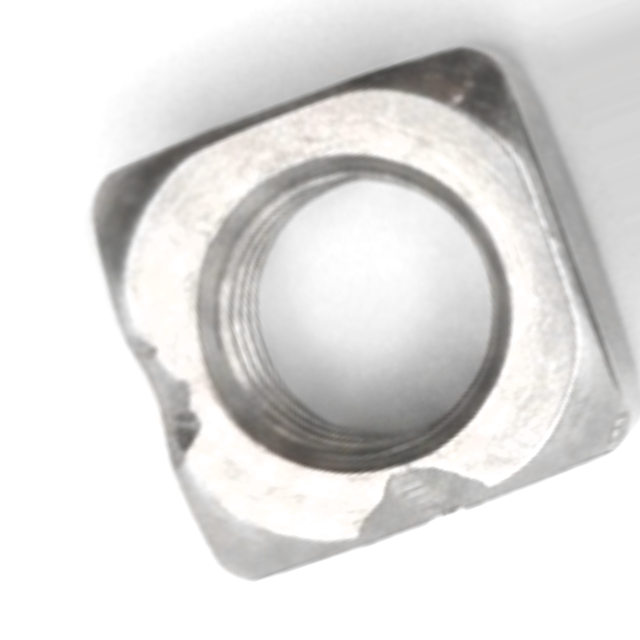defect: (125, 326, 207, 473), (359, 463, 505, 544)
